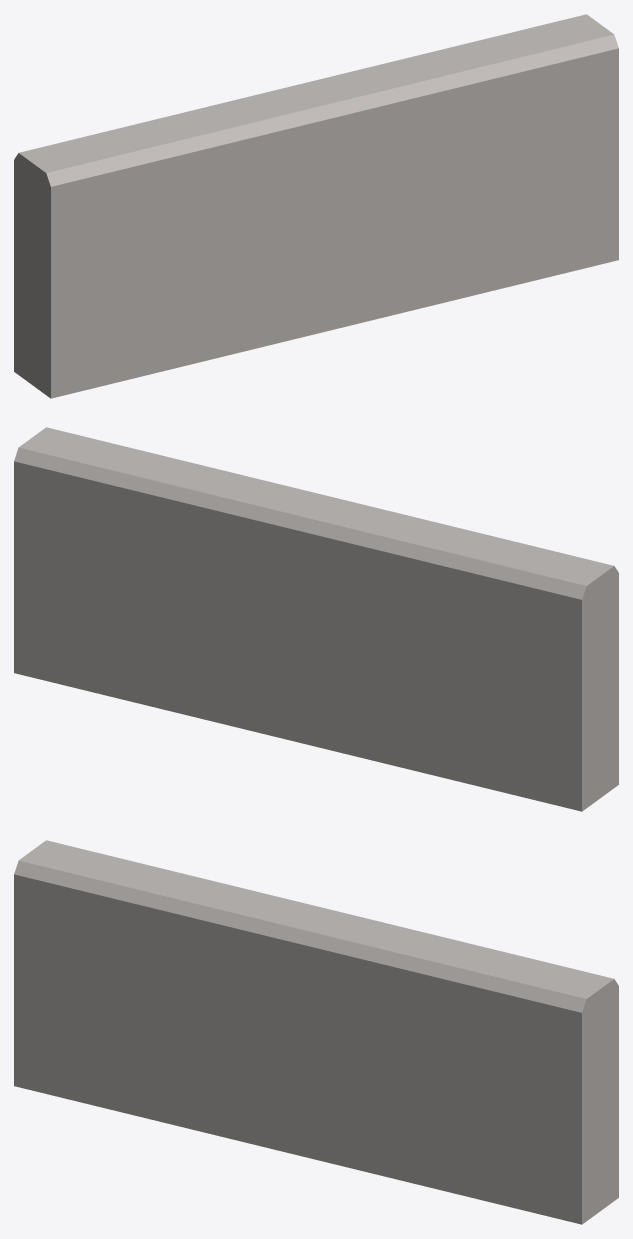
The model's file is fence-stone.glb.
3 renders of one model, top to bottom at view 1: azimuth 30°, elevation 25°; view 2: azimuth 150°, elevation 25°; view 3: azimuth 330°, elevation 25°, orthographic.
Visible parts, largest first — view 1: fence-stone; view 2: fence-stone; view 3: fence-stone.
Part boxes in pixels (<box>): fence-stone: <box>14,14,618,398</box>; fence-stone: <box>14,427,618,811</box>; fence-stone: <box>14,840,618,1224</box>.
Size of the model in its own units: 4 by 1.5 by 0.45.
Materials: 1 (1 with a texture image).
